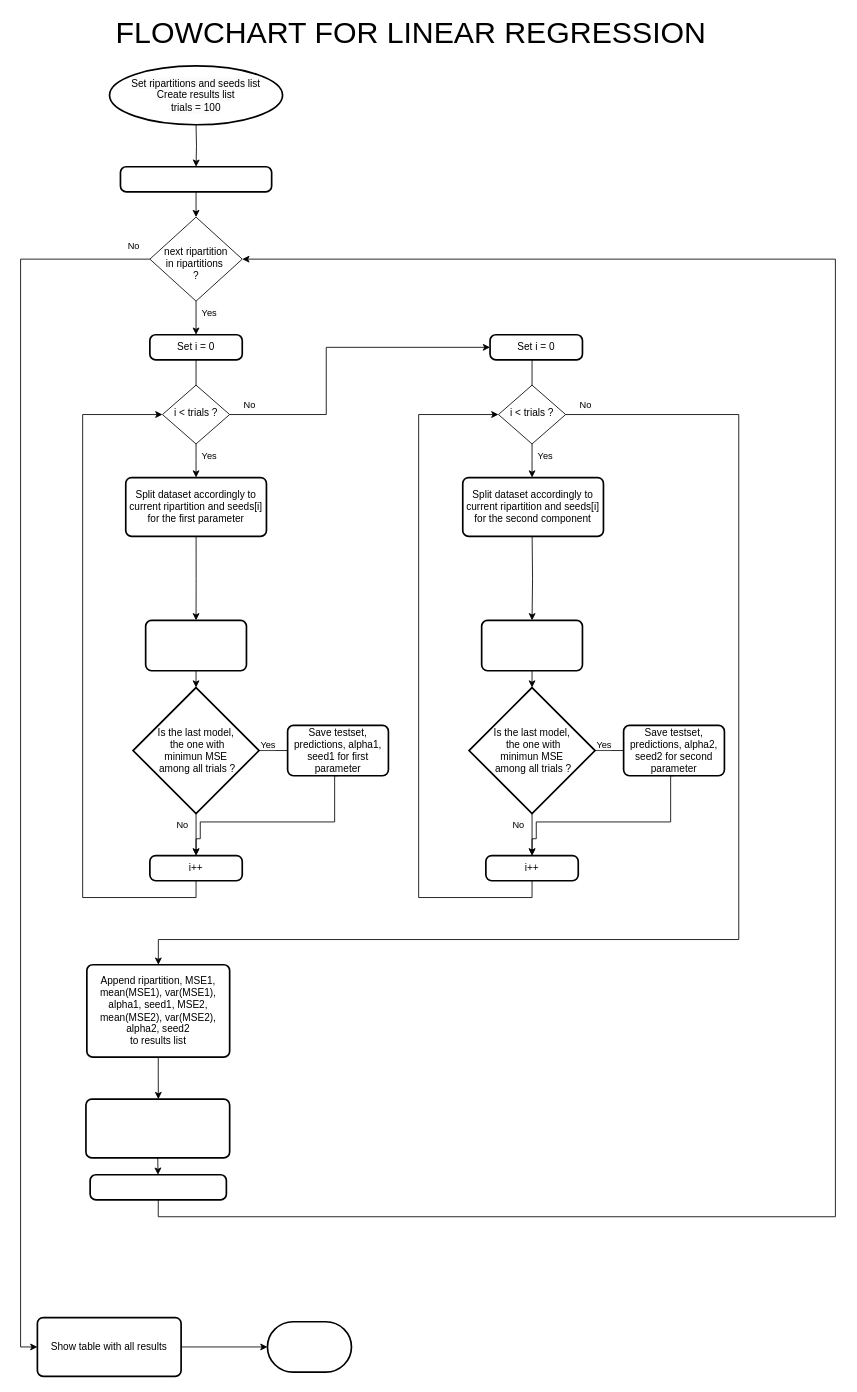
Some shapes in this 857 by 1392 pixel diagram are drawn without their labels. Each missing label, with the centre of its shape:
END: point (309, 1346)
Get next ripartition: point (158, 1186)
next ripartition = first ripartition: point (195, 178)
Plot "predicted vs actual" for both the models and current ripartition: point (157, 1128)
Store MSE1 of the trained model: point (195, 645)
Store MSE2 of the trained model: point (531, 645)
